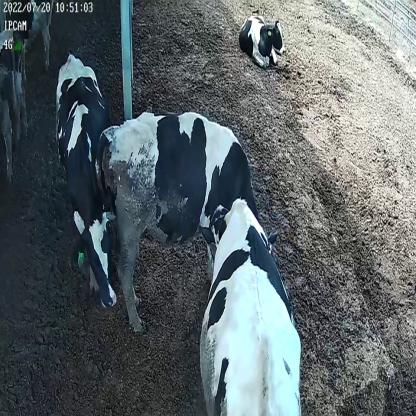cow: (94, 104, 282, 328), (196, 199, 306, 416), (54, 48, 120, 311), (239, 12, 287, 68)
